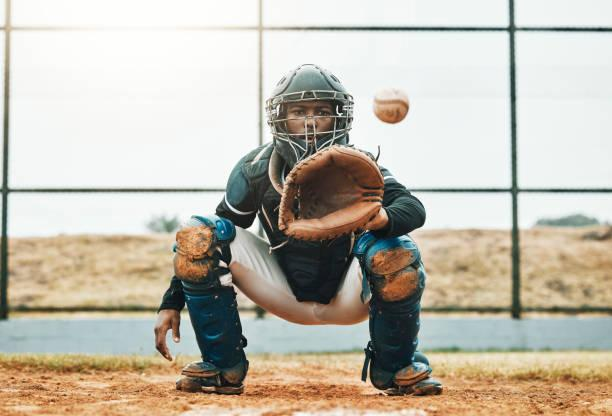baseball: (372, 85, 410, 124)
